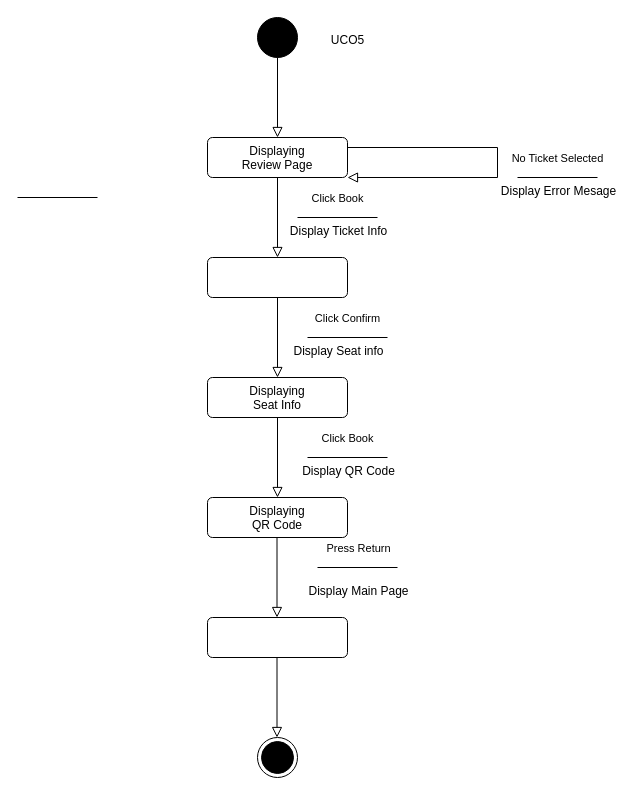
This 633x795 diagram has some shape labels left out. Here are the shapes that lost their labels. From the top down, the centre of each, then its label:
At point (277, 277): "Displaying Ticket Info".
At point (277, 637): "Displaying Main Page".
